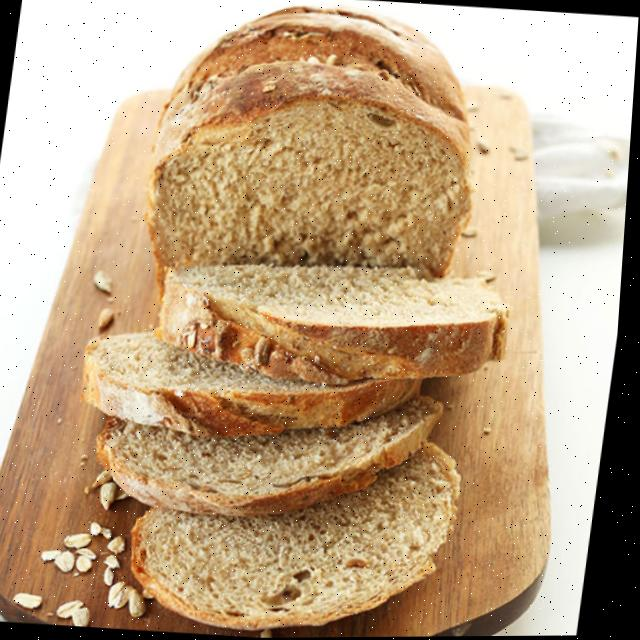Bread: (150, 61, 472, 283), (139, 443, 466, 630), (164, 264, 511, 384), (103, 397, 448, 516), (86, 333, 426, 436)
